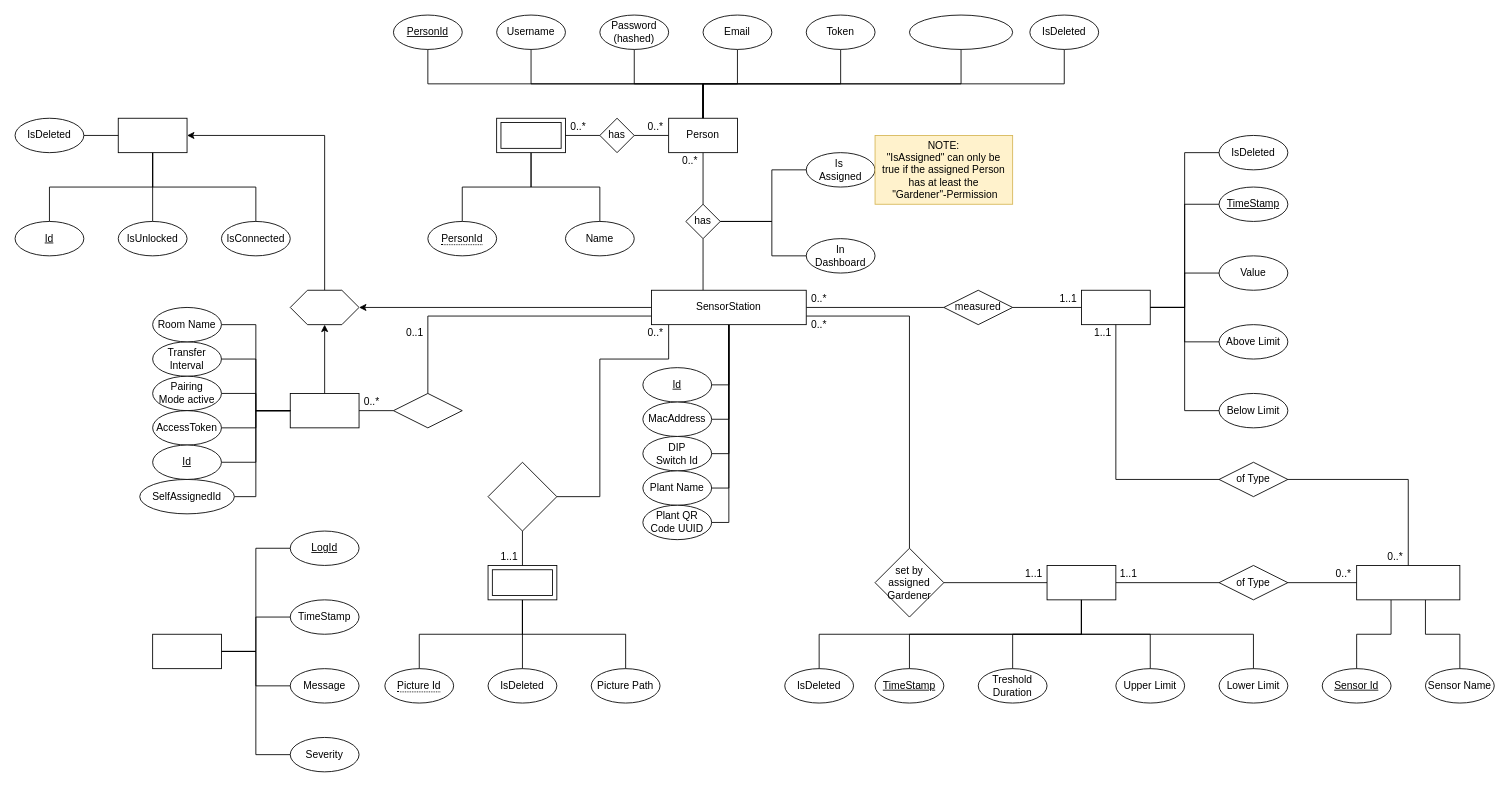
The diagram is 1509 pixels wide and 787 high, and some of its shapes have lost their labels. The shapes that lost their labels are listed below. From the top down, each one's centre as x and y in pixels, then its label:
pixel 961 31: Token Creation DateTime
pixel 152 135: Device
pixel 530 135: Permission
pixel 324 307: isa
pixel 1115 307: Sensor Data
pixel 324 410: AccessPoint
pixel 427 410: connected
pixel 522 496: picture taken of
pixel 522 582: Plant Picture
pixel 1081 582: Sensor Limits
pixel 1408 582: Sensor Type
pixel 186 651: Log
